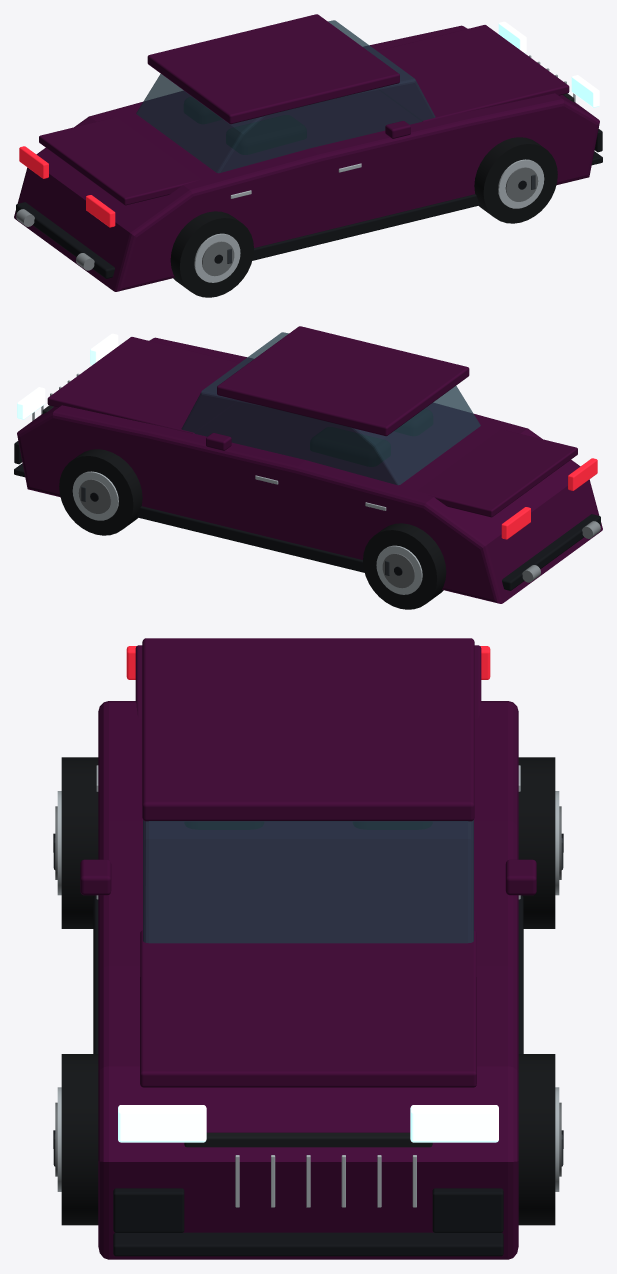
File: chevy_malibu_maxx.glb
The picture shows the model from 3 angles, top to bottom: view 1: azimuth 30°, elevation 25°; view 2: azimuth 150°, elevation 25°; view 3: azimuth 270°, elevation 25°; orthographic projection. The views are drawn at different scales.
Parts seen in each view (by area): view 1: sculpted_body, roof, glasshouse, hood_center, rear_deck, rear_right_wheel_tire, front_right_wheel_tire, side_skirt_1, seat_1, rear_diffuser, front_right_wheel_rim, rear_right_wheel_rim (+7 smaller); view 2: sculpted_body, roof, glasshouse, hood_center, rear_deck, rear_left_wheel_tire, front_left_wheel_tire, side_skirt_-1, seat_-1, rear_diffuser, front_left_wheel_rim, rear_left_wheel_rim (+7 smaller); view 3: sculpted_body, roof, hood_center, glasshouse, front_splitter, front_left_wheel_tire, front_right_wheel_tire, rear_left_wheel_tire, rear_right_wheel_tire, front_grille, headlight_left, headlight_right (+7 smaller).
Part boxes in pixels (left/top/right/bottom): sculpted_body: left=14, top=25, right=599, bottom=291; roof: left=147, top=14, right=399, bottom=124; glasshouse: left=136, top=20, right=435, bottom=173; hood_center: left=372, top=25, right=569, bottom=121; rear_deck: left=39, top=117, right=200, bottom=205; rear_right_wheel_tire: left=170, top=211, right=253, bottom=297; front_right_wheel_tire: left=474, top=137, right=557, bottom=223; side_skirt_1: left=252, top=194, right=480, bottom=260; seat_1: left=226, top=115, right=306, bottom=154; rear_diffuser: left=16, top=202, right=114, bottom=278; front_right_wheel_rim: left=498, top=159, right=544, bottom=208; rear_right_wheel_rim: left=194, top=233, right=240, bottom=282; sculpted_body: left=17, top=337, right=602, bottom=603; roof: left=217, top=326, right=469, bottom=436; glasshouse: left=181, top=332, right=480, bottom=485; hood_center: left=47, top=337, right=244, bottom=433; rear_deck: left=416, top=429, right=577, bottom=517; rear_left_wheel_tire: left=363, top=523, right=446, bottom=609; front_left_wheel_tire: left=59, top=449, right=142, bottom=535; side_skirt_-1: left=136, top=506, right=364, bottom=572; seat_-1: left=310, top=427, right=390, bottom=466; rear_diffuser: left=502, top=514, right=600, bottom=590; front_left_wheel_rim: left=72, top=471, right=118, bottom=520; rear_left_wheel_rim: left=376, top=545, right=422, bottom=594; sculpted_body: left=98, top=701, right=518, bottom=1259; roof: left=142, top=638, right=474, bottom=821; hood_center: left=140, top=930, right=476, bottom=1087; glasshouse: left=143, top=820, right=473, bottom=943; front_splitter: left=113, top=1232, right=503, bottom=1256; front_left_wheel_tire: left=518, top=1054, right=555, bottom=1225; front_right_wheel_tire: left=61, top=1054, right=98, bottom=1225; rear_left_wheel_tire: left=518, top=757, right=555, bottom=928; rear_right_wheel_tire: left=61, top=757, right=98, bottom=928; front_grille: left=184, top=1132, right=432, bottom=1147; headlight_left: left=410, top=1105, right=498, bottom=1142; headlight_right: left=118, top=1105, right=206, bottom=1142.
Size of the model in its own units: 4.92 by 1.47 by 2.14.
